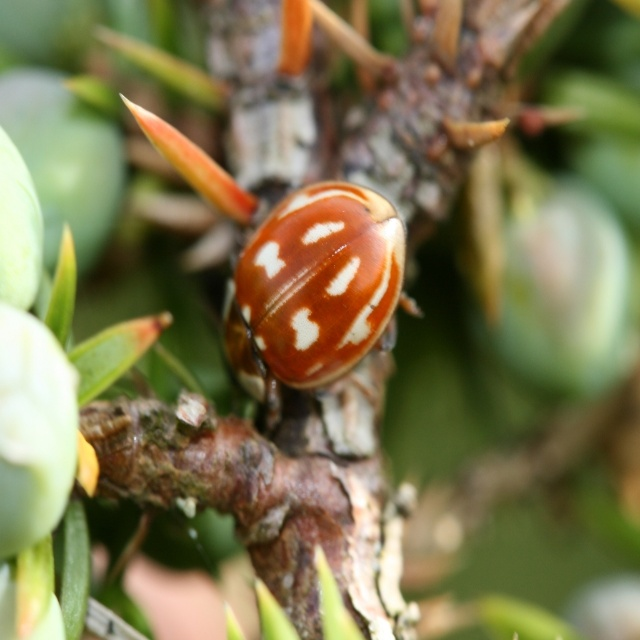Ladybug: (222, 180, 421, 424)
